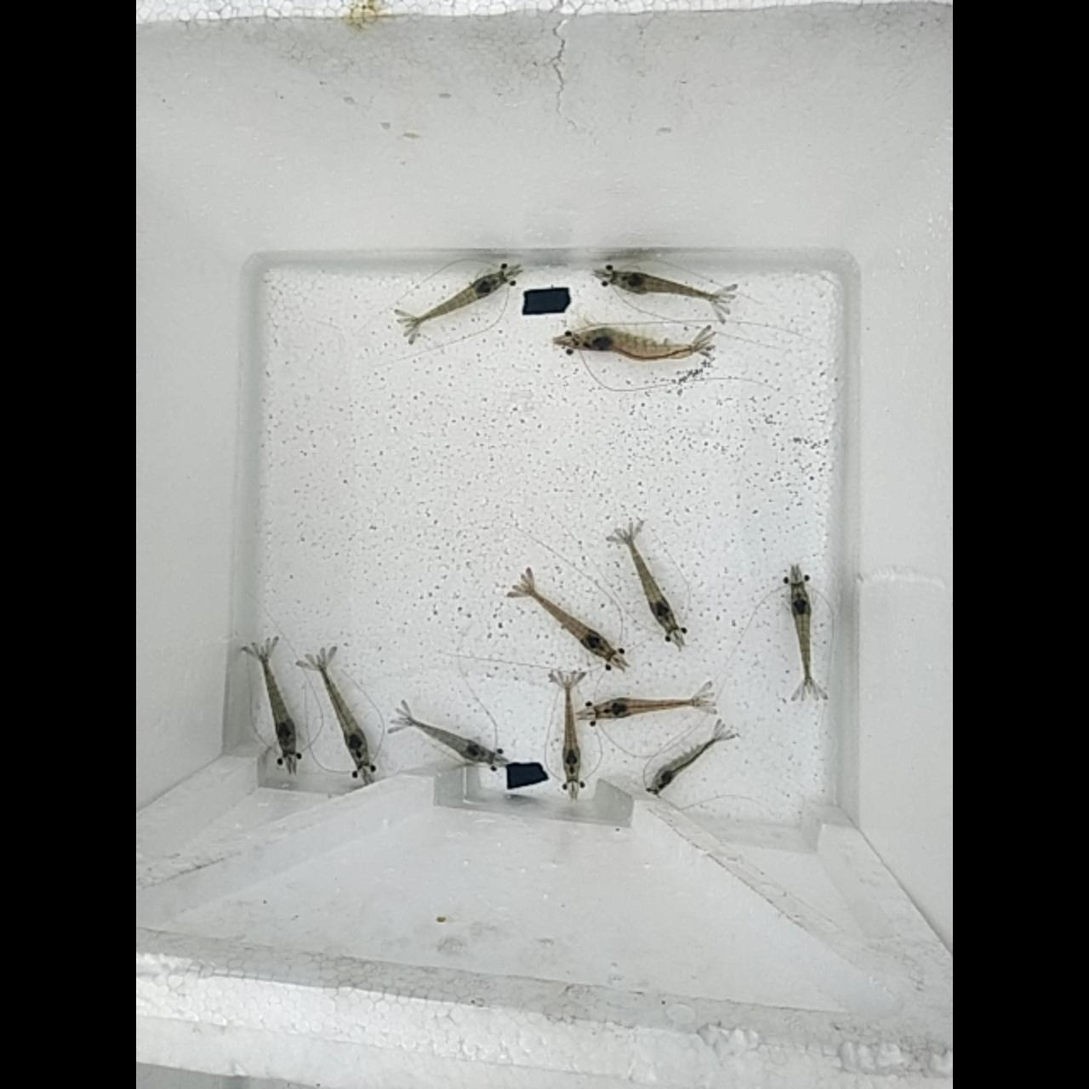box: (524, 288, 568, 311), (507, 762, 544, 786)
side_shrimp: (573, 328, 699, 359), (655, 735, 721, 788)
top_shrimp: (521, 585, 613, 659), (408, 272, 502, 327), (318, 662, 366, 766), (624, 534, 674, 626), (403, 716, 490, 761), (260, 650, 298, 752), (609, 271, 720, 298), (596, 698, 702, 720), (562, 681, 582, 779), (790, 582, 808, 687)
